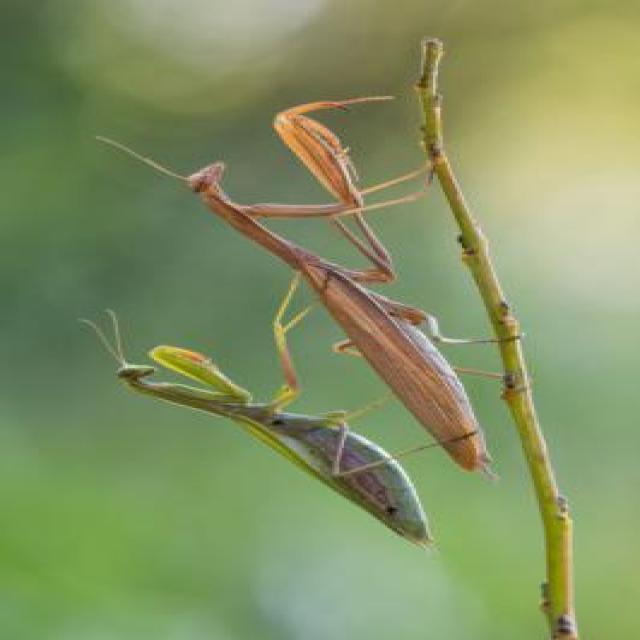antennae: (100, 135, 194, 182), (83, 318, 114, 356), (107, 310, 124, 361)
body: (191, 162, 496, 469), (118, 366, 433, 534)
insect: (90, 69, 532, 480), (84, 311, 440, 545)
legs: (251, 97, 400, 218), (330, 162, 442, 285), (325, 418, 475, 481), (334, 186, 429, 276), (262, 299, 319, 409), (264, 269, 306, 410), (336, 341, 500, 376), (388, 301, 519, 344), (157, 344, 250, 404), (277, 398, 389, 444)
mouthpart: (213, 161, 229, 175), (146, 366, 160, 379)
wings: (303, 270, 477, 470), (256, 428, 422, 541)
